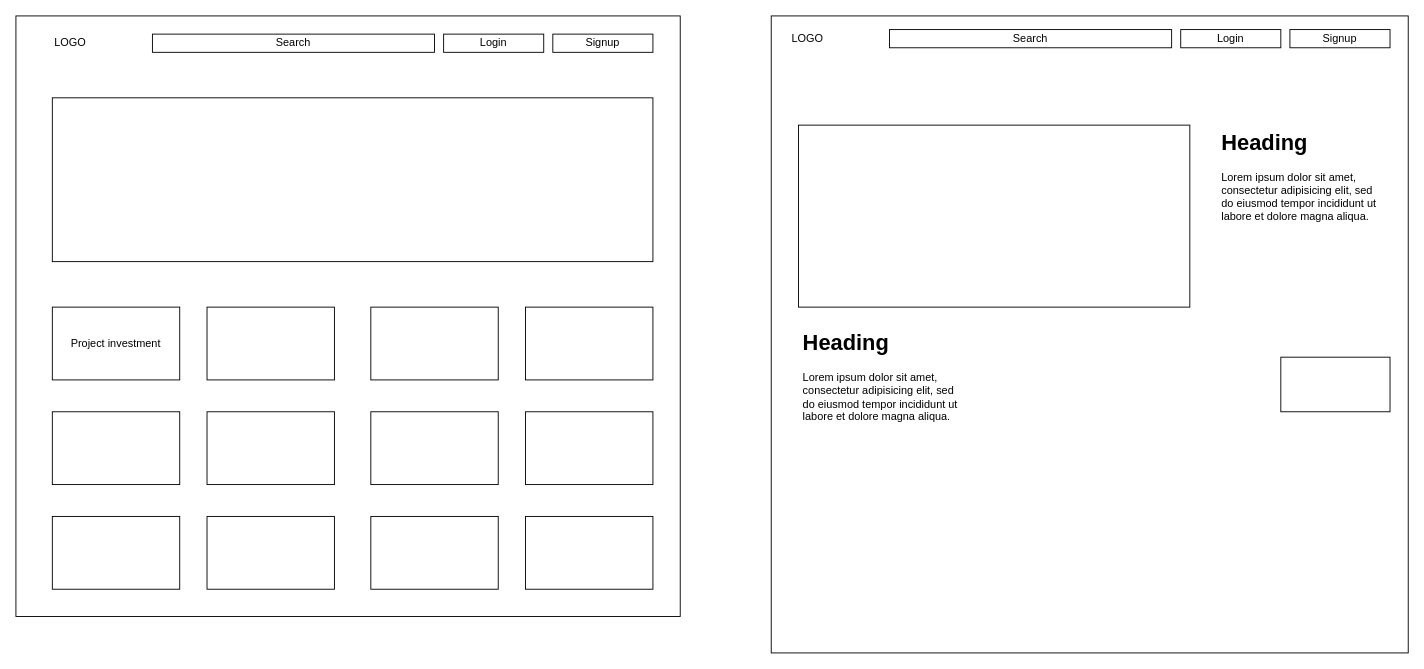
Image size: 1424x669. Some labels were removed from this diagram. Here are the shapes that lost their labels. From the top down, the centre of each, then its label:
At point (352, 179): "Banner".
At point (994, 215): "Pic".
